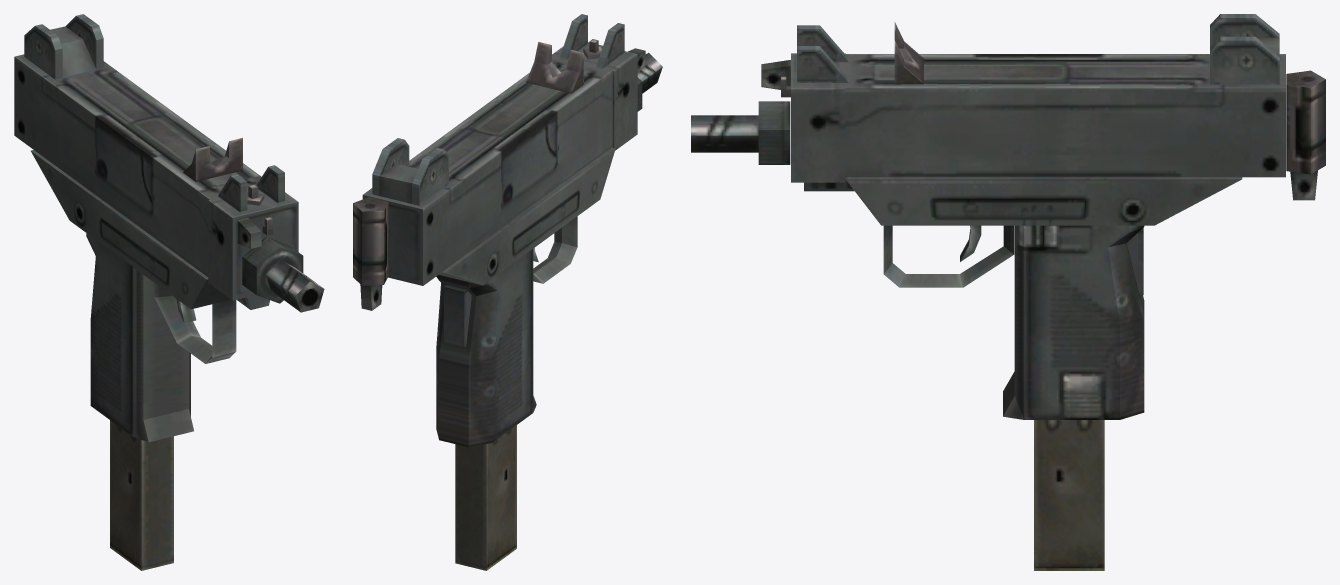
File: Submachine Gun (DR).obj
The picture shows the model from 3 angles, left to right: view 1: azimuth 30°, elevation 25°; view 2: azimuth 150°, elevation 25°; view 3: azimuth 270°, elevation 25°; orthographic projection. The views are drawn at different scales.
Visible parts, largest first — view 1: rdmobj01_model\om\om0; view 2: rdmobj01_model\om\om0; view 3: rdmobj01_model\om\om0.
Part boxes in pixels (left/top/right/bottom): rdmobj01_model\om\om0: left=14, top=14, right=324, bottom=570; rdmobj01_model\om\om0: left=353, top=14, right=662, bottom=570; rdmobj01_model\om\om0: left=691, top=14, right=1325, bottom=570.
Bounding box in the file's own units: 0.5212 × 3.42 × 3.68.
